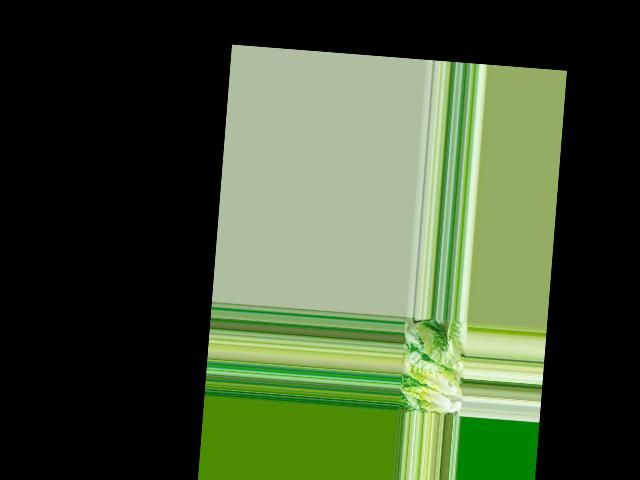lettuce: (402, 349, 466, 414)
